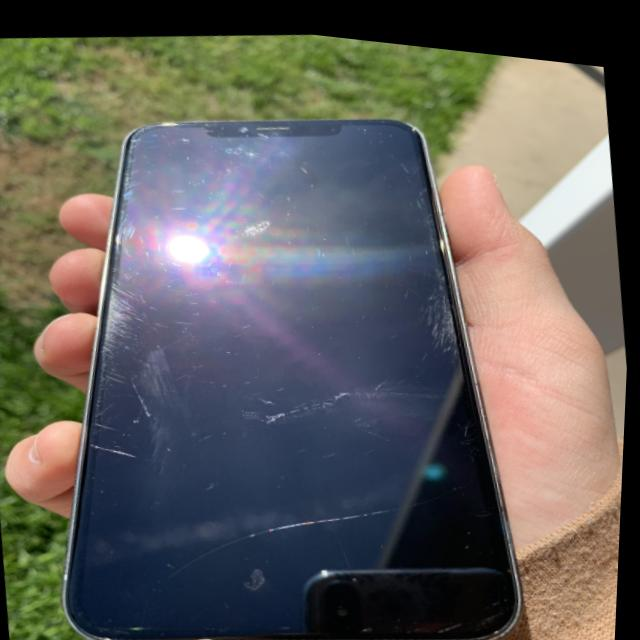scratch: (153, 476, 446, 578), (88, 127, 166, 460), (228, 362, 446, 423)
